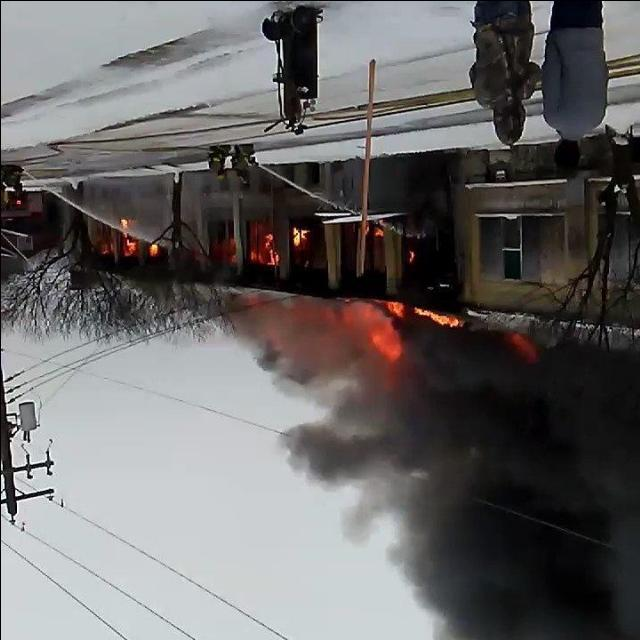Fire: (341, 300, 401, 360), (413, 307, 459, 327), (260, 233, 280, 265), (290, 226, 306, 246), (118, 238, 134, 255), (144, 242, 158, 256)
